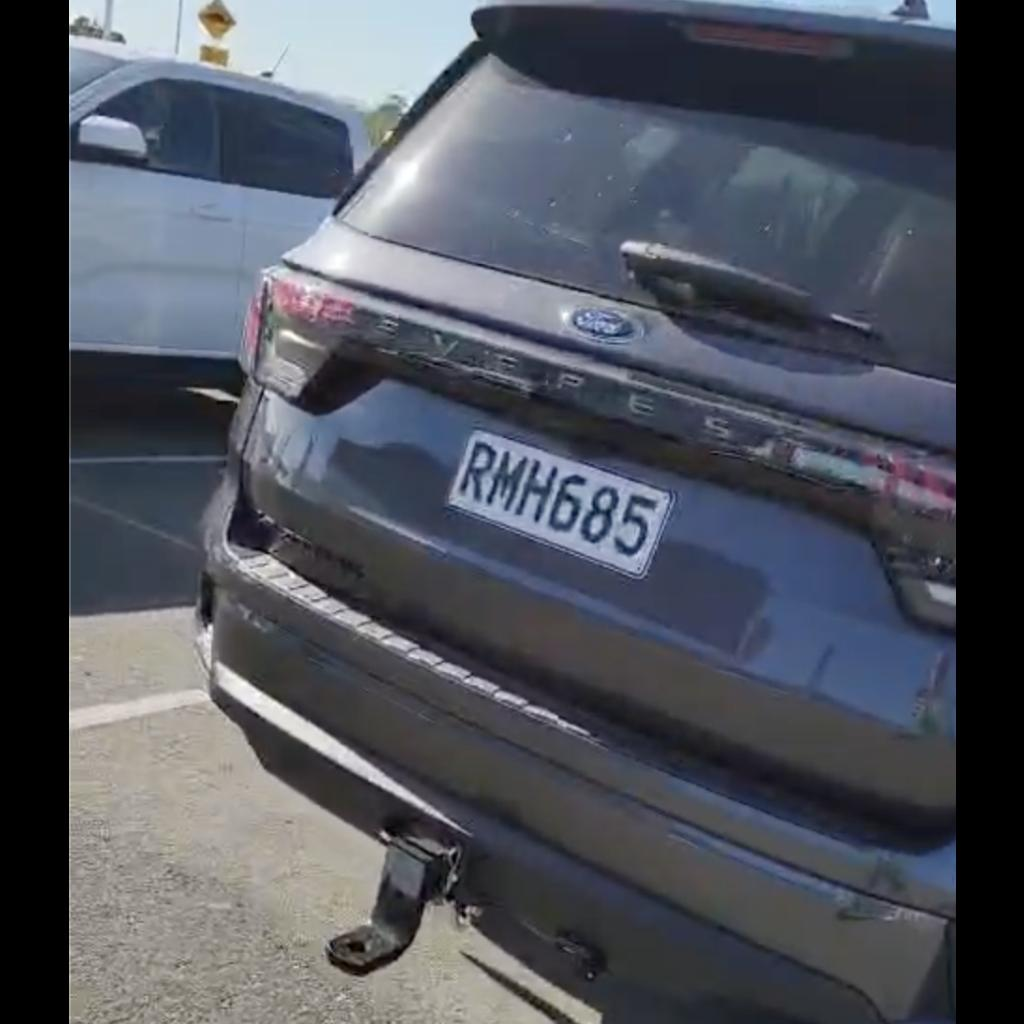Number-Plates: (419, 412, 703, 606)
